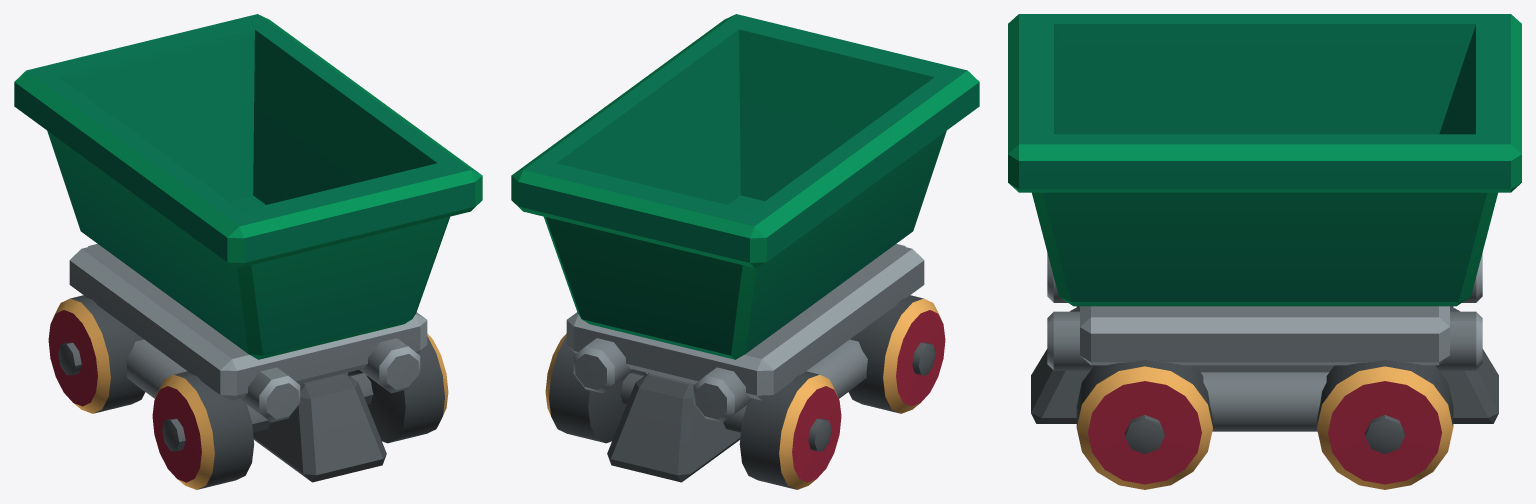
Rendered from train_tender_empty.fbx.
3 views of the same model, side by side, from view 1: azimuth 30°, elevation 25°; view 2: azimuth 150°, elevation 25°; view 3: azimuth 270°, elevation 25° (orthographic). The views are drawn at different scales.
Parts seen in each view (by area): view 1: train_tender_empty; view 2: train_tender_empty; view 3: train_tender_empty.
Boxes of the visible parts, x1=… form: train_tender_empty: x1=14, y1=14, x2=482, y2=489; train_tender_empty: x1=511, y1=14, x2=979, y2=489; train_tender_empty: x1=1008, y1=14, x2=1521, y2=489.
Bounding box in the file's own units: 44.59 × 47.68 × 64.21.
